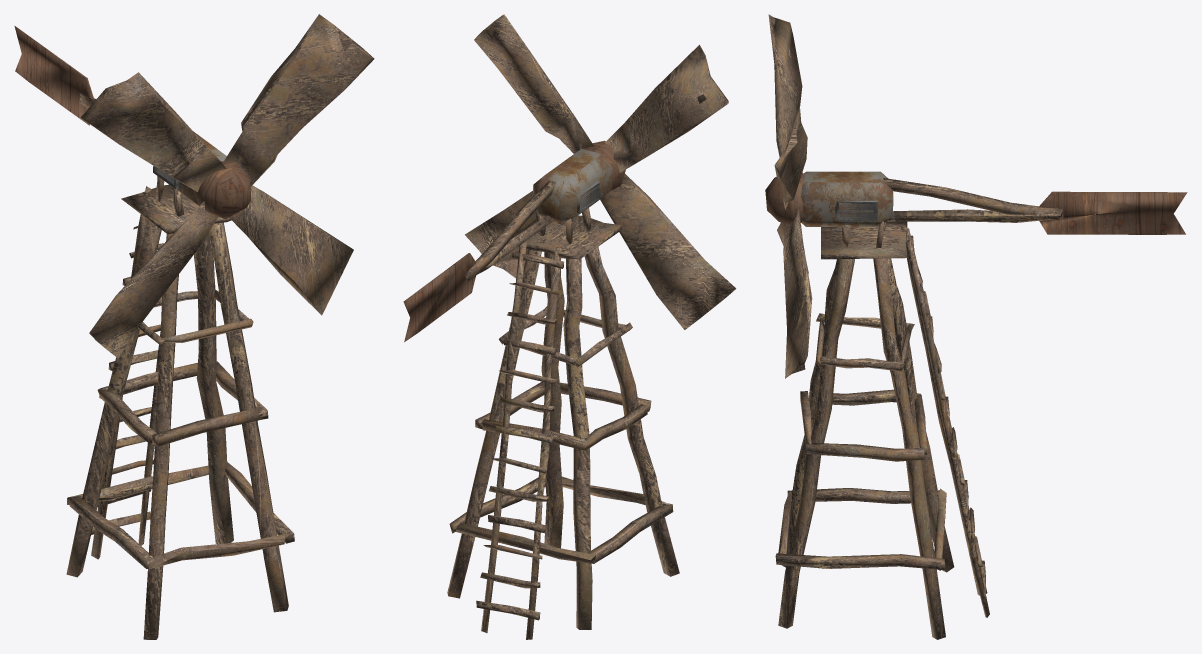
The model's file is windmill_player.fbx.
The picture shows the model from 3 angles, left to right: view 1: azimuth 30°, elevation 25°; view 2: azimuth 150°, elevation 25°; view 3: azimuth 270°, elevation 25°; orthographic projection. The views are drawn at different scales.
Parts seen in each view (by area): view 1: Windmill; view 2: Windmill; view 3: Windmill.
Boxes of the visible parts, <box> form: Windmill: <box>14,14,374,639</box>; Windmill: <box>403,14,736,639</box>; Windmill: <box>765,14,1187,639</box>.
Size of the model in its own units: 51.72 by 102 by 70.67.
